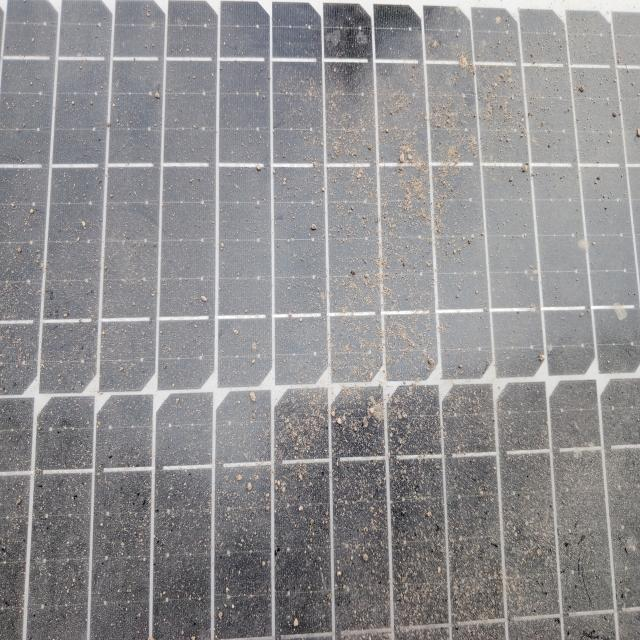Surface Contaminant: (8, 7, 639, 639)
